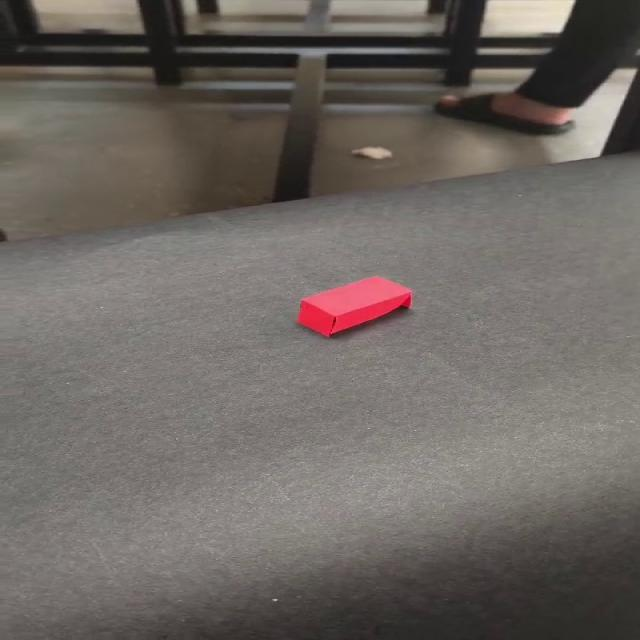red block: (295, 275, 413, 338)
